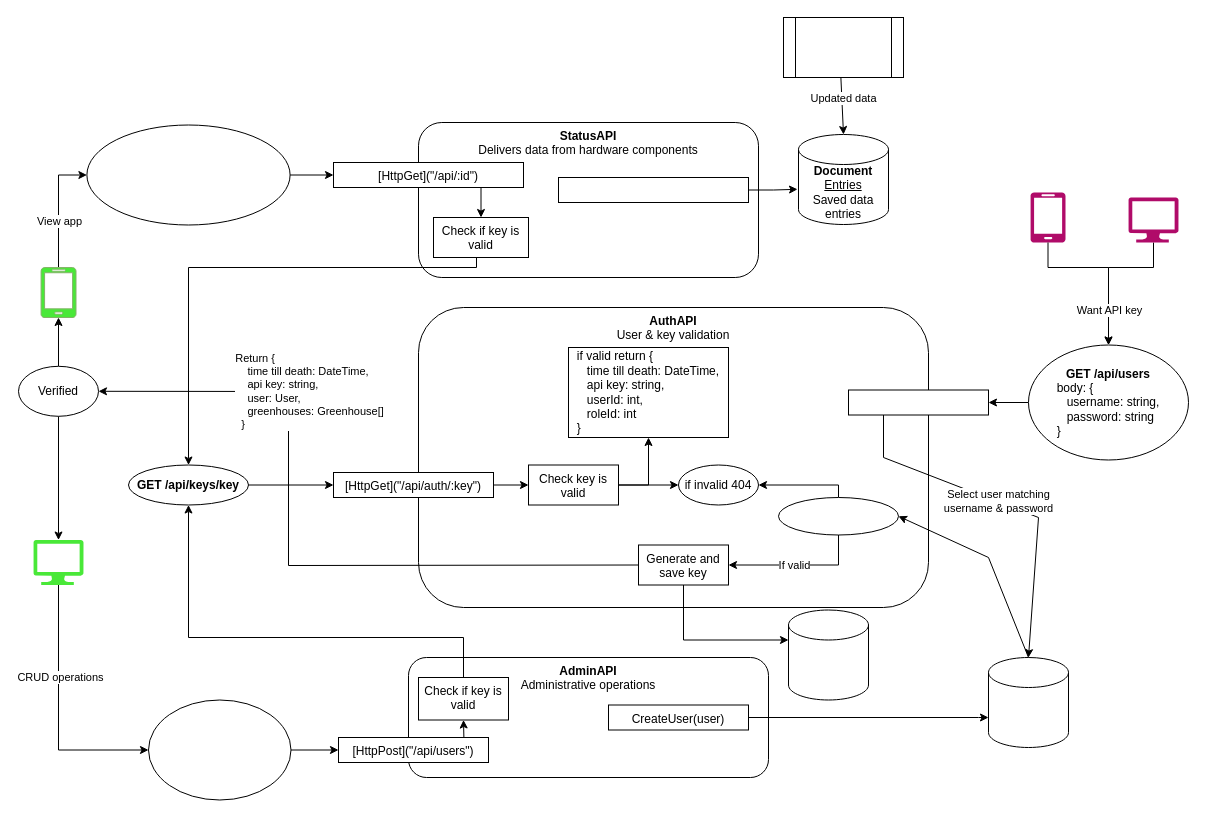
The diagram is 1206 pixels wide and 818 high, and some of its shapes have lost their labels. Here are the shapes that lost their labels. From the top down, the box of each, then its label:
(782, 16, 904, 78): Embedded
(86, 124, 290, 225): GET /api/:id body: { key: string }
(558, 176, 748, 202): GetGreenhouse(id)
(848, 389, 988, 415): [HttpGet]("/api/auth")
(778, 496, 898, 535): Return User match
(788, 609, 868, 700): Document Keys API key data
(988, 656, 1068, 748): SQL User & Greenhouse data
(148, 699, 291, 800): POST /api/users body: { key: string, data: User }
